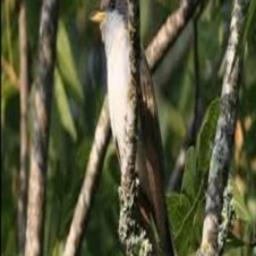Cuckoo: (88, 0, 186, 256)
